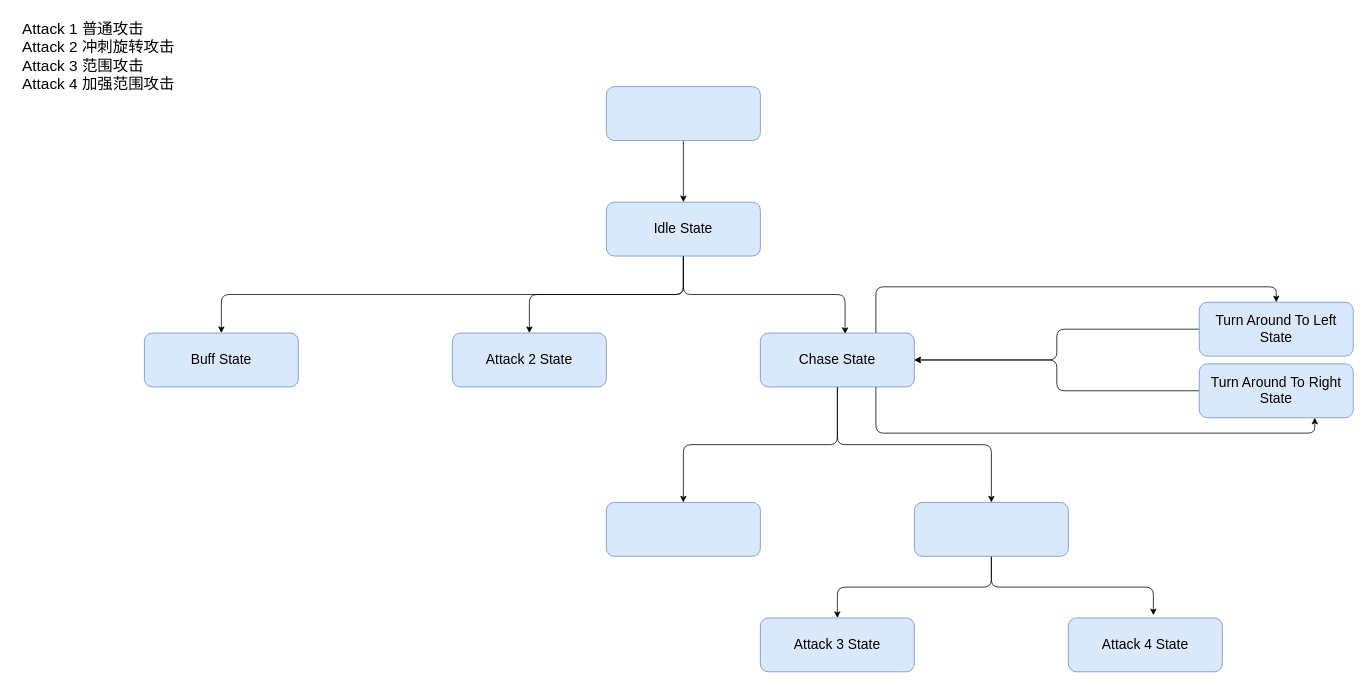
Some shapes in this 1367 by 685 pixel diagram are drawn without their labels. The shapes that lost their labels are listed below. From the top down, each one's centre as x and y in pixels, then its label:
the point at 683,113: Wake State
the point at 683,529: Attack 1 State
the point at 991,529: Range Attack State
